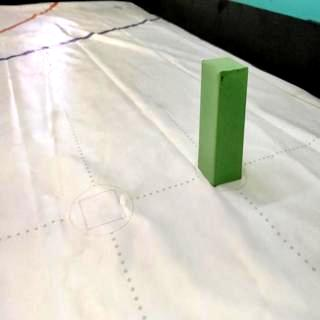greenbox: (197, 56, 250, 190)
